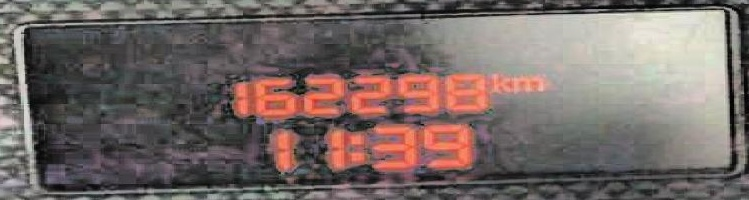1: (327, 129, 345, 168), (274, 129, 289, 169), (231, 81, 247, 115)
2: (298, 76, 343, 113), (347, 75, 389, 112)
3: (369, 125, 414, 167)
6: (252, 77, 294, 115)
8: (443, 72, 485, 110)
9: (418, 123, 469, 166), (394, 74, 438, 111)
X: (345, 134, 365, 163), (509, 76, 543, 91), (487, 71, 511, 91)
